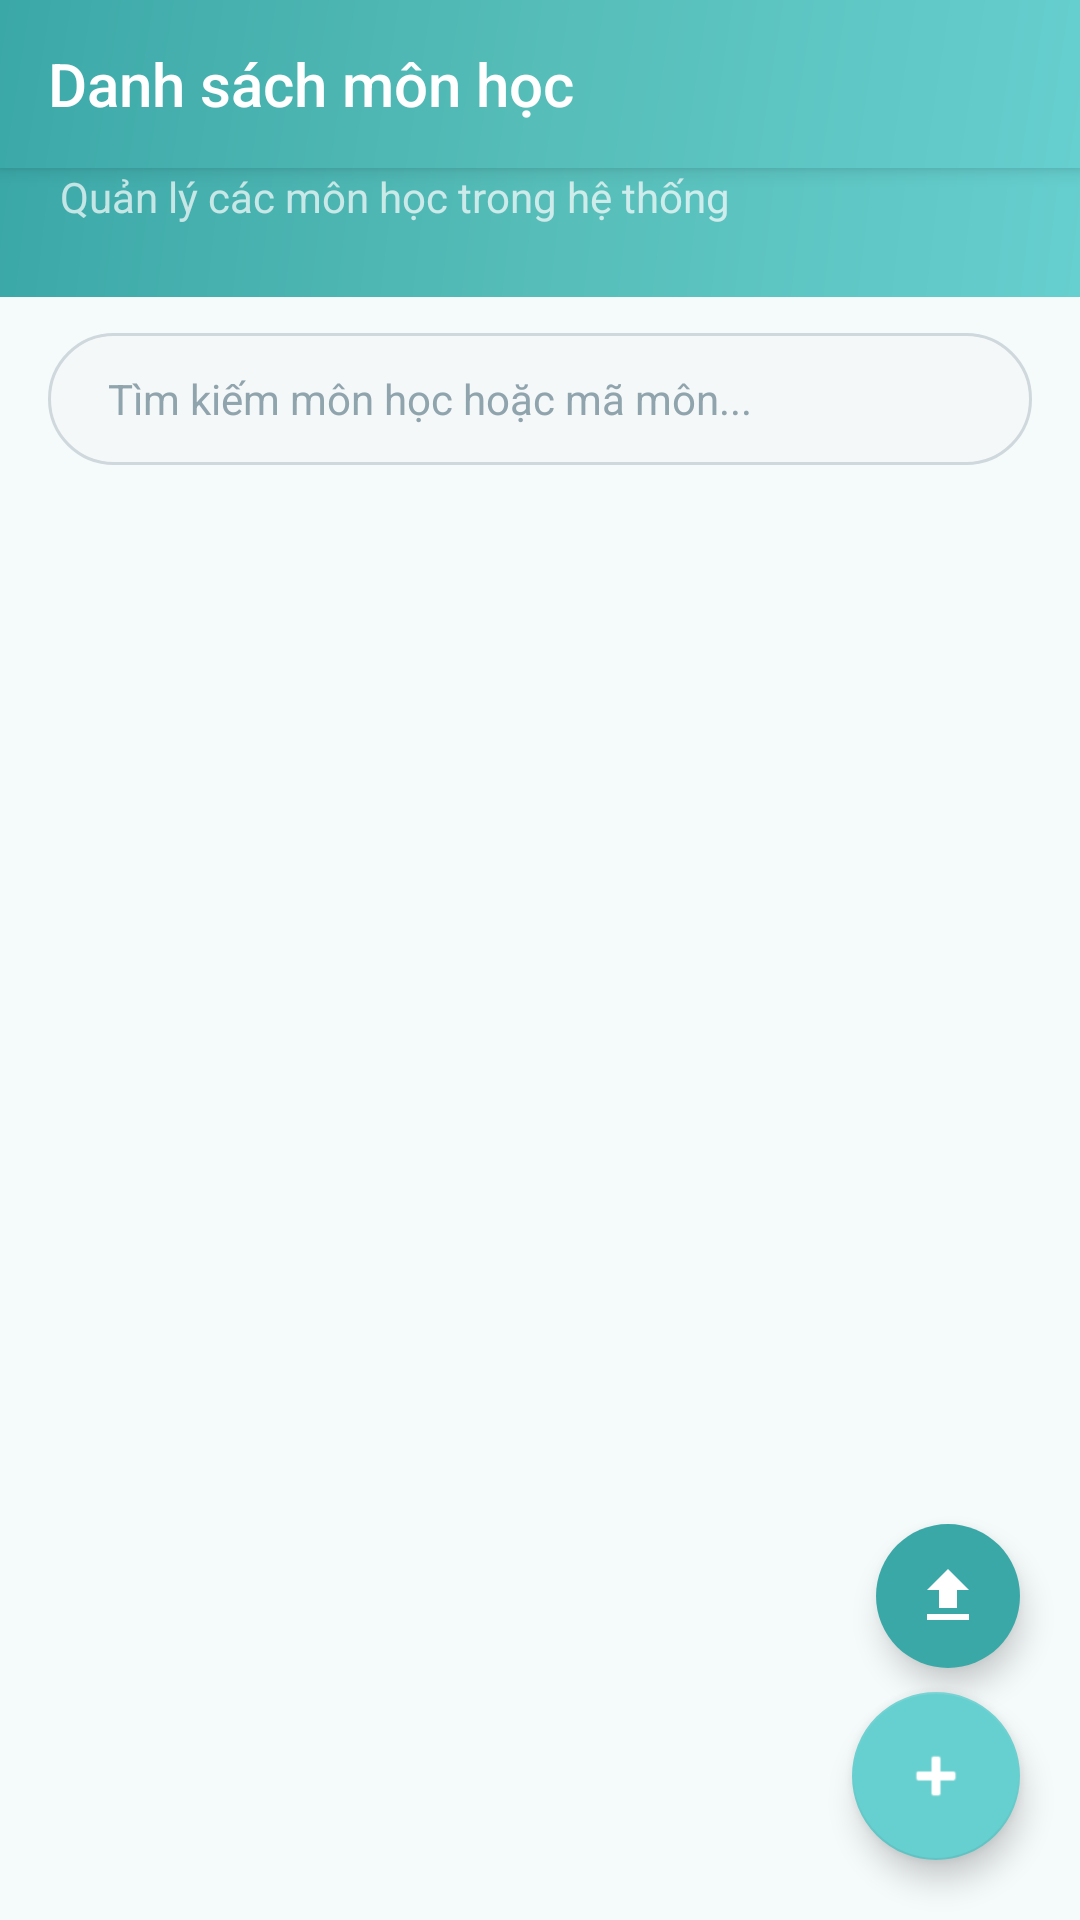

Where to tap for icons on this 1080×1920 app screen, as (x,y):
add: (936,1776)
Nhập CSV môn học: (948,1596)
